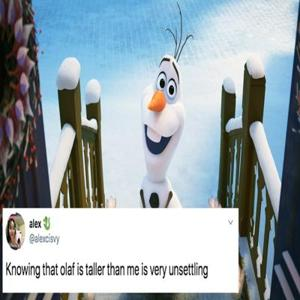olaf: (143, 10, 196, 207)
